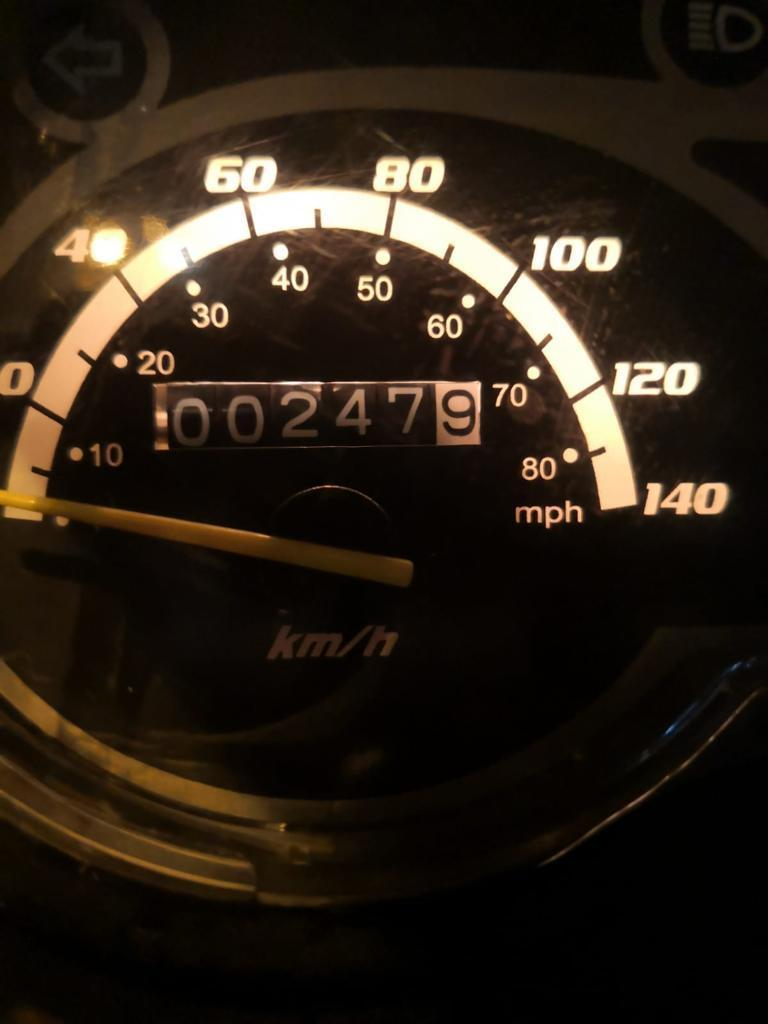0: (170, 390, 212, 450), (226, 389, 267, 445)
2: (275, 386, 319, 445)
4: (331, 384, 375, 437)
7: (384, 382, 426, 437)
9: (434, 382, 480, 442)
odometer: (145, 372, 491, 453)
